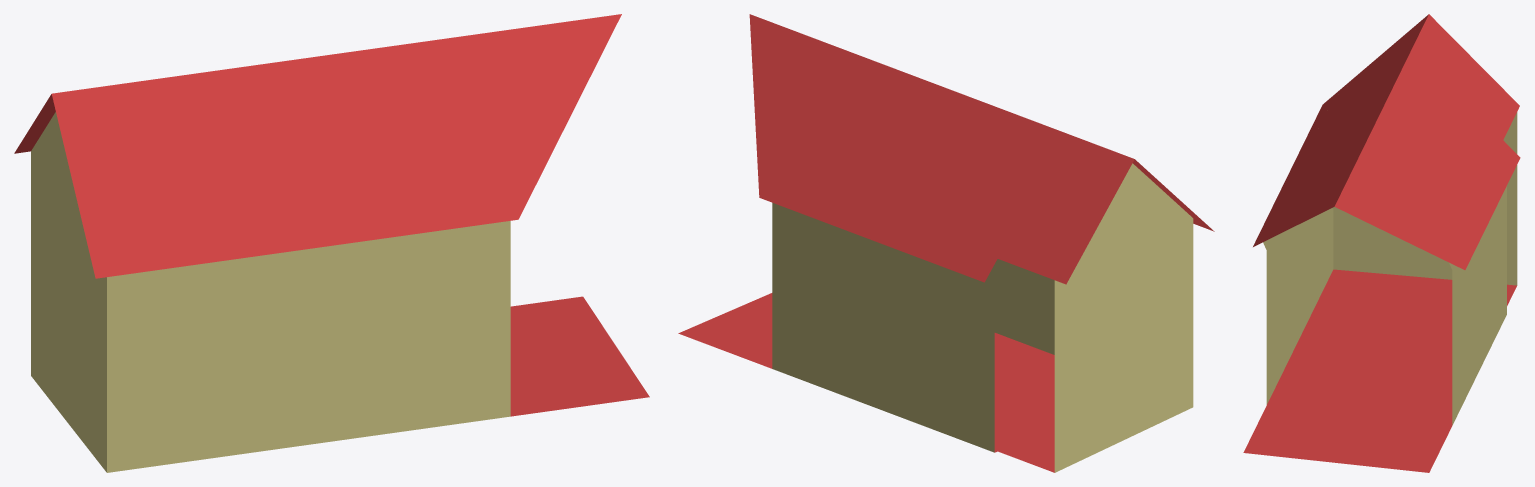
3 views of the same model, side by side, from view 1: azimuth 30°, elevation 25°; view 2: azimuth 150°, elevation 25°; view 3: azimuth 270°, elevation 25° (orthographic). The views are drawn at different scales.
Size of the model in its own units: 17.99 by 10.01 by 10.28.
